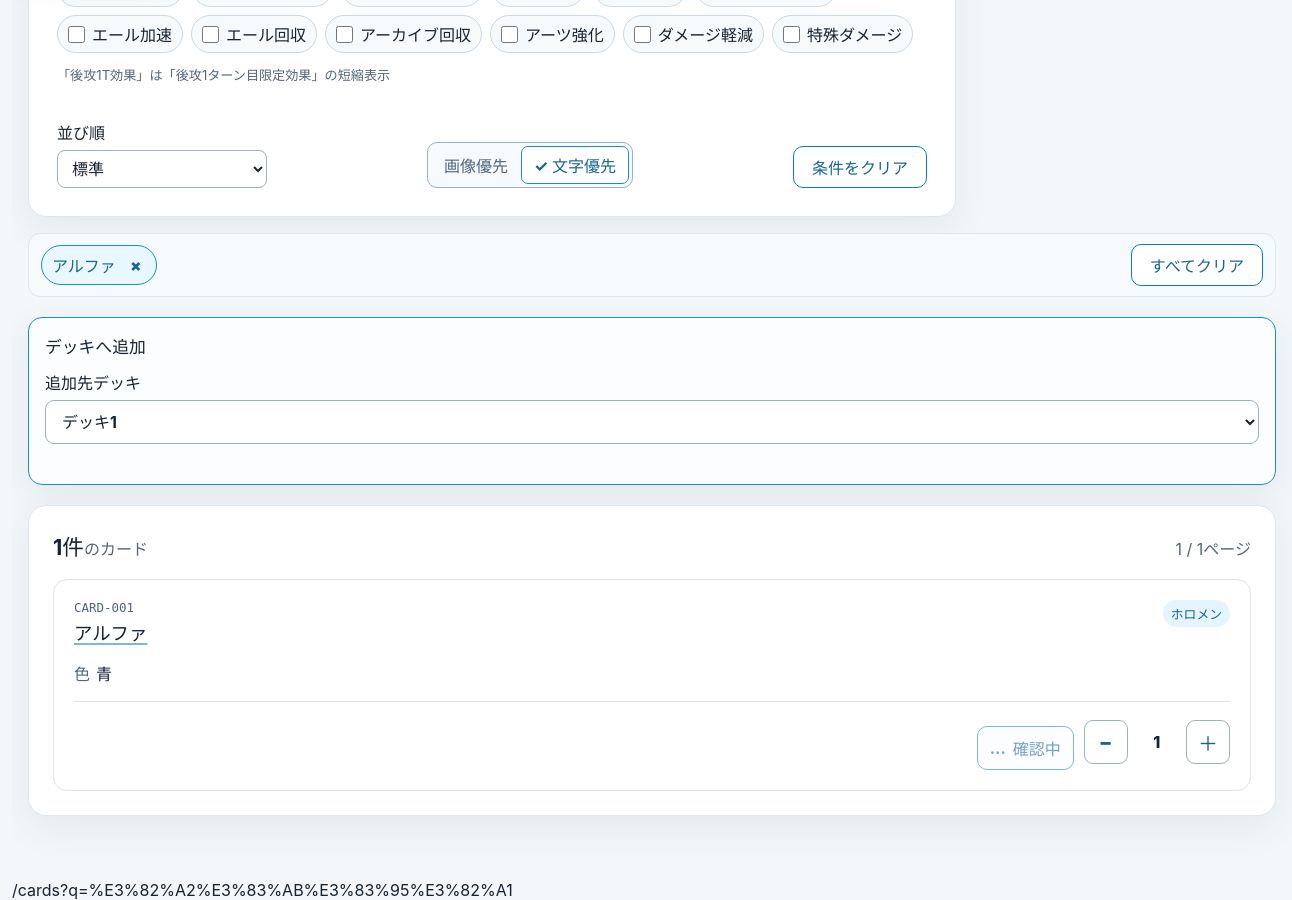
Test: CardSearchPage deck quick add › increments, decrements, removes zero entries, and autosaves without changing the URL
This screenshot has width=1292, height=900.
(page scrolled)
Expected: the dropdown labelled "追加先デッキ" shows "デッキ1", [45,400,1259,444]
Expected: the text named "現在 1枚" is shown, [1153,732,1160,752]
What coordinates should you click on to do the following:
click the button named "アルファを1枚追加"
I would click on:
 (1208, 742)
Its box is [1186,720,1230,764].
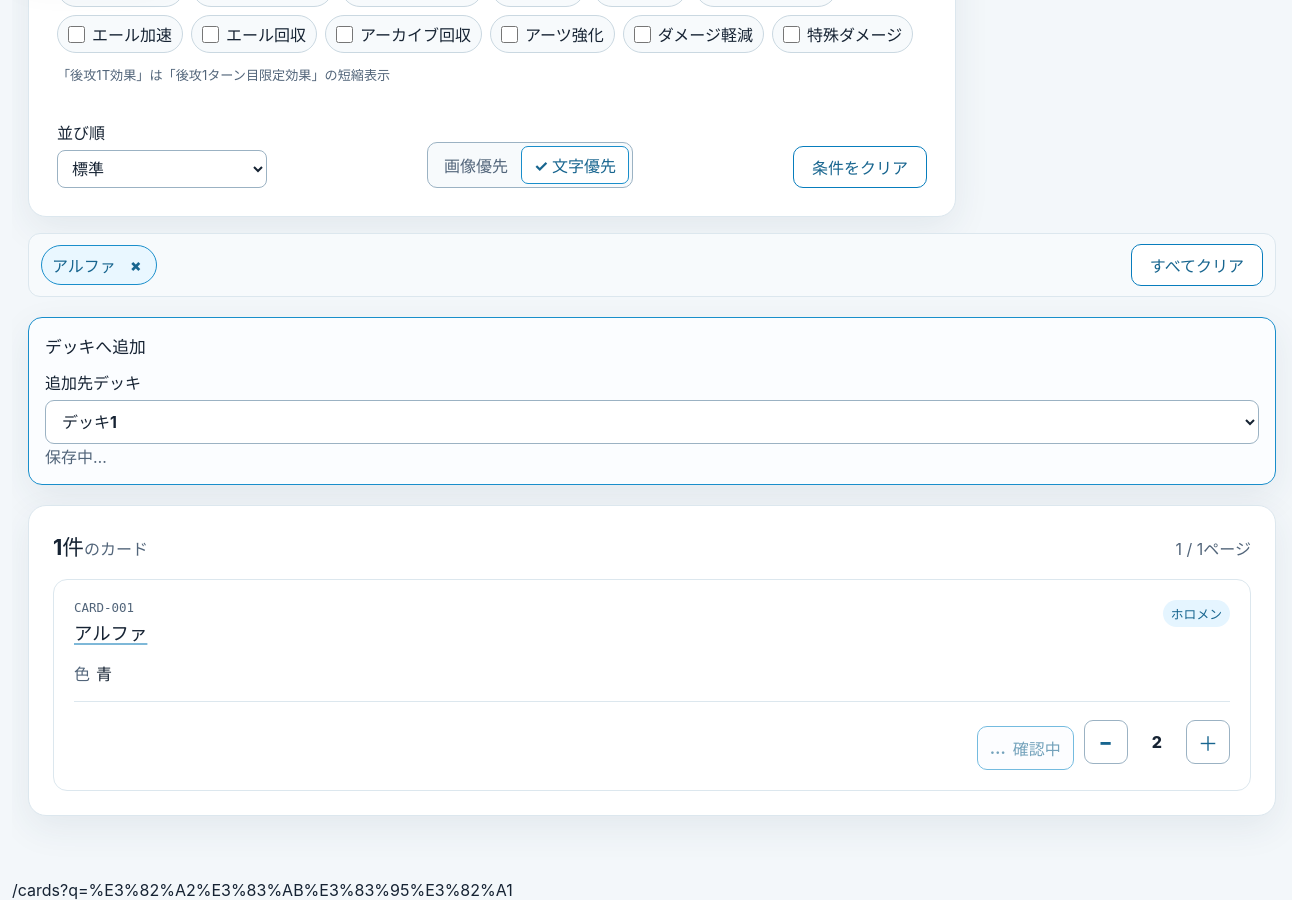
Expected: the text named "現在 2枚" is shown, [1152,732,1162,752]
What coordinates should you click on to do the following:
click the button named "アルファを1枚減らす"
I would click on:
 (1106, 742)
Its box is [1084,720,1128,764].
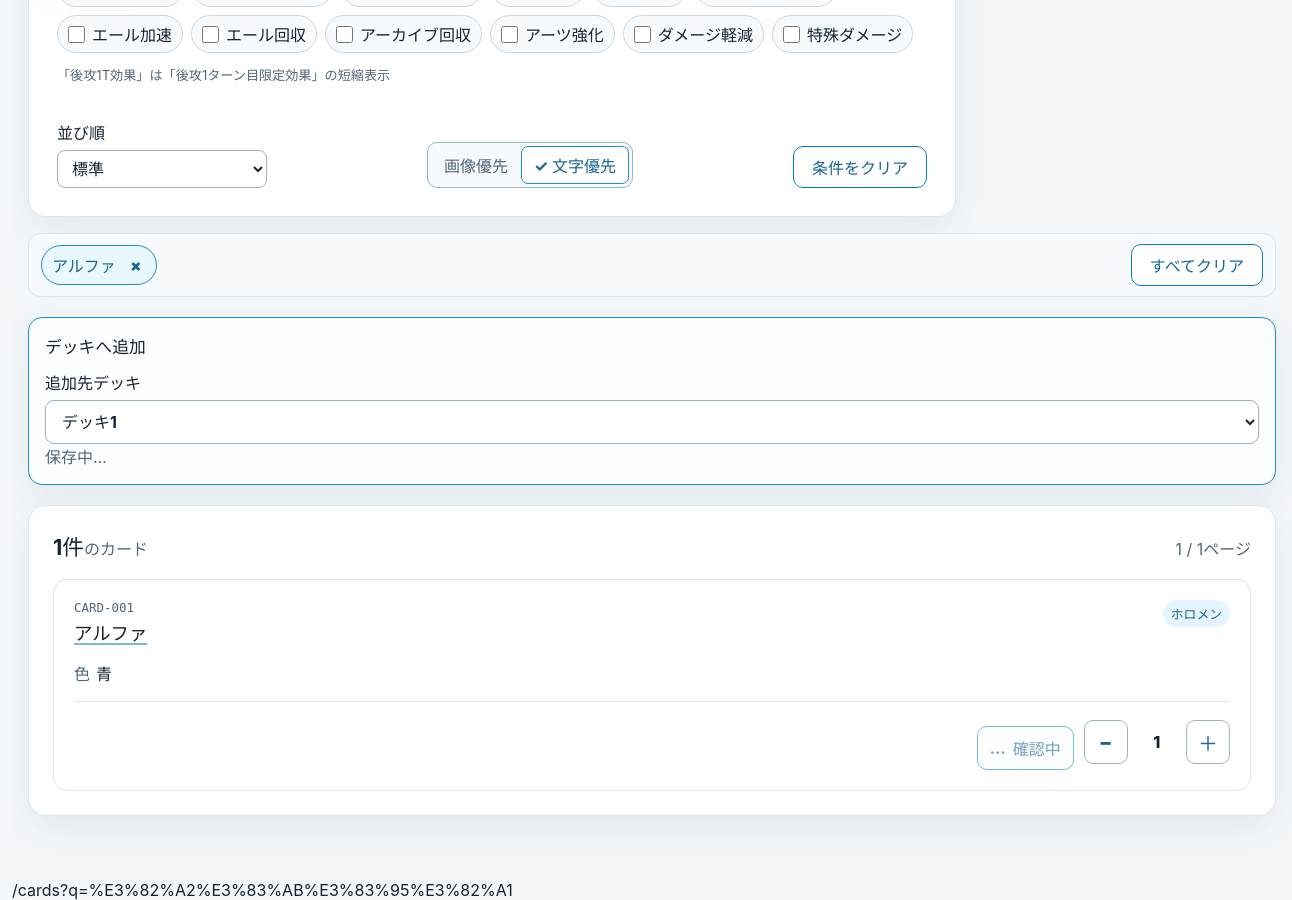
Expected: the text named "現在 1枚" is shown, [1153,732,1160,752]
What coordinates should you click on to do the following:
click the button named "アルファを1枚減らす"
I would click on:
 (1106, 742)
Its box is [1084,720,1128,764].
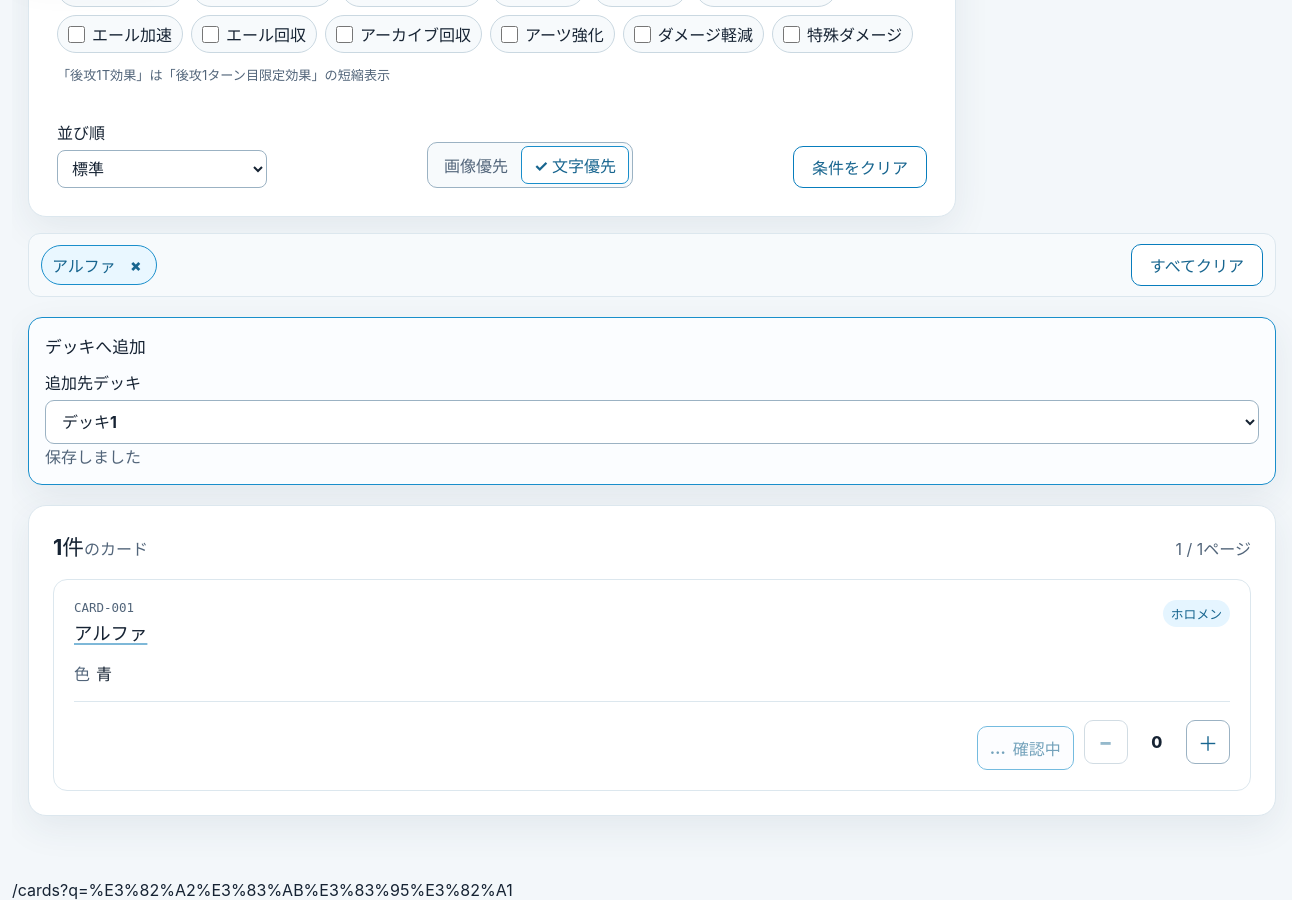
Expected: the text with test id "location" shows "/cards?q=", [12,880,513,899]
Expected: the text named "現在 0枚" is shown, [1151,732,1162,752]
Expected: the button named "アルファを1枚減らす" is disabled, [1084,720,1128,764]
